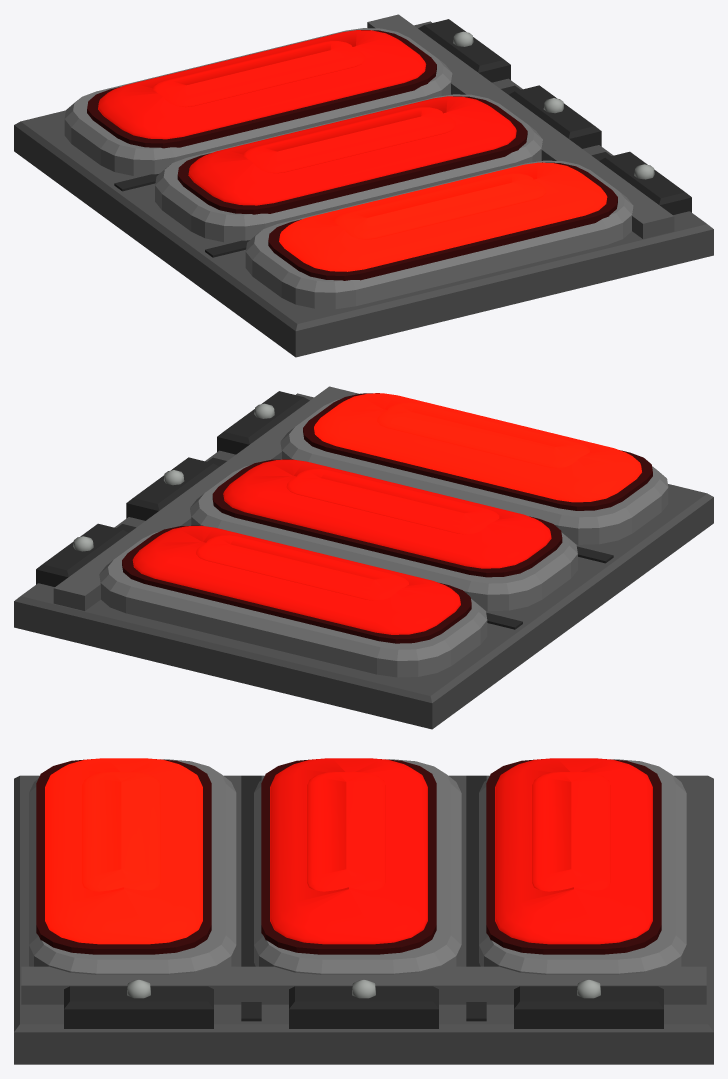
File: newshs-153.glb
3 views of the same model, one above another, from view 1: azimuth 30°, elevation 25°; view 2: azimuth 150°, elevation 25°; view 3: azimuth 270°, elevation 25° (orthographic). The views are drawn at different scales.
Parts seen in each view (by area): view 1: newshs-153; view 2: newshs-153; view 3: newshs-153.
Boxes of the visible parts, x1=… form: newshs-153: x1=14, y1=14, x2=713, y2=357; newshs-153: x1=14, y1=386, x2=713, y2=729; newshs-153: x1=14, y1=758, x2=713, y2=1064.
Size of the model in its own units: 2 by 0.365 by 2.33.
